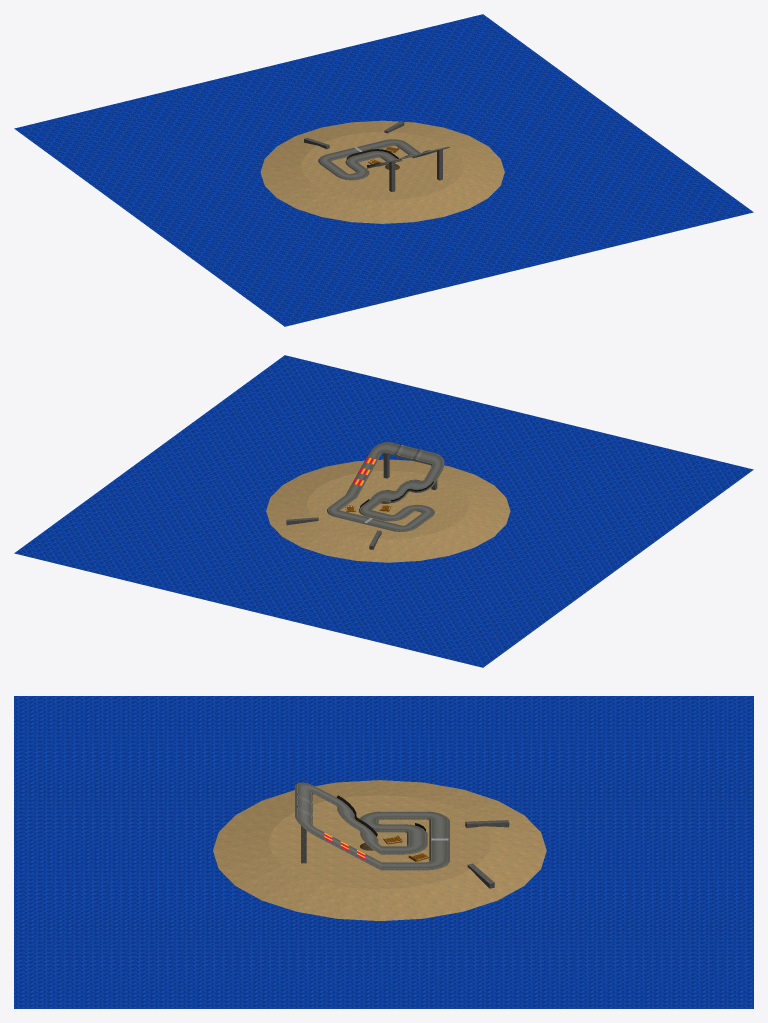
3 views of the same model, one above another, from view 1: azimuth 30°, elevation 25°; view 2: azimuth 150°, elevation 25°; view 3: azimuth 270°, elevation 25° (orthographic). The views are drawn at different scales.
Parts seen in each view (by area): view 1: Sideways_Beach_Update_SKP__Material4, Sideways_Beach_Update_SKP__SandLight_1, Sideways_Beach_Update_SKP__lambert201, Sideways_Beach_Update_SKP__Color_007, Sideways_Beach_Update_SKP__lambert2011; view 2: Sideways_Beach_Update_SKP__Material4, Sideways_Beach_Update_SKP__SandLight_1, Sideways_Beach_Update_SKP__lambert201, Sideways_Beach_Update_SKP__lambert2011; view 3: Sideways_Beach_Update_SKP__Material4, Sideways_Beach_Update_SKP__SandLight_1, Sideways_Beach_Update_SKP__lambert201, Sideways_Beach_Update_SKP__lambert2011, Sideways_Beach_Update_SKP__Color_007.
Part boxes in pixels (<box>): Sideways_Beach_Update_SKP__Material4: <box>14,14,753,326</box>; Sideways_Beach_Update_SKP__SandLight_1: <box>260,120,504,223</box>; Sideways_Beach_Update_SKP__lambert201: <box>319,139,428,178</box>; Sideways_Beach_Update_SKP__Color_007: <box>304,121,442,191</box>; Sideways_Beach_Update_SKP__lambert2011: <box>318,144,449,180</box>; Sideways_Beach_Update_SKP__Material4: <box>14,355,753,667</box>; Sideways_Beach_Update_SKP__SandLight_1: <box>266,459,510,562</box>; Sideways_Beach_Update_SKP__lambert201: <box>328,442,442,530</box>; Sideways_Beach_Update_SKP__lambert2011: <box>327,442,444,531</box>; Sideways_Beach_Update_SKP__Material4: <box>14,696,753,1008</box>; Sideways_Beach_Update_SKP__SandLight_1: <box>213,780,546,920</box>; Sideways_Beach_Update_SKP__lambert201: <box>297,782,448,868</box>; Sideways_Beach_Update_SKP__lambert2011: <box>295,782,449,870</box>; Sideways_Beach_Update_SKP__Color_007: <box>301,820,509,888</box>.
Size of the model in its own units: 158661 by 13043 by 158661.
Materials: 11 (11 with a texture image).
